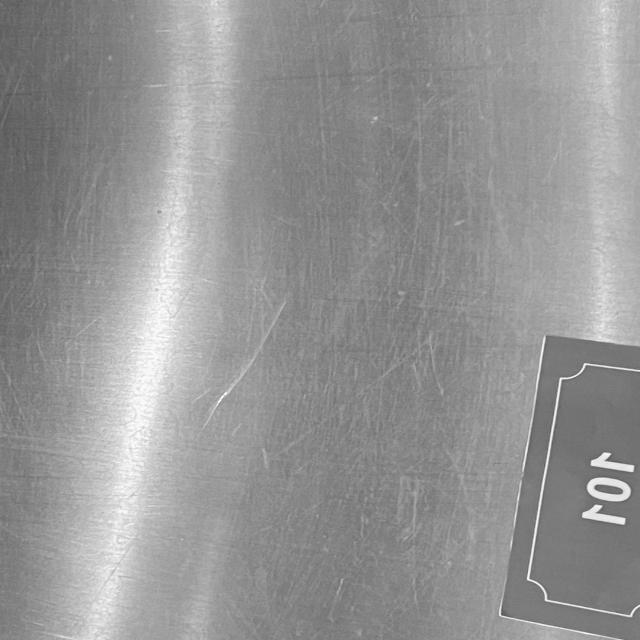Card: (481, 326, 640, 640)
